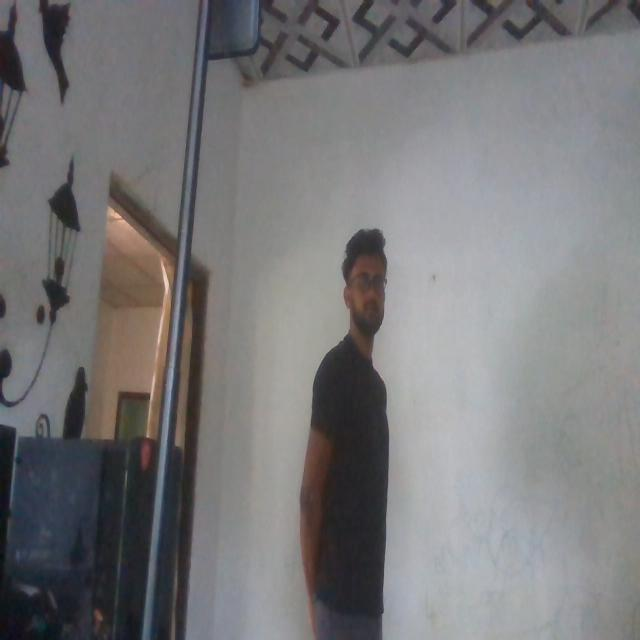Person: (306, 215, 418, 626)
